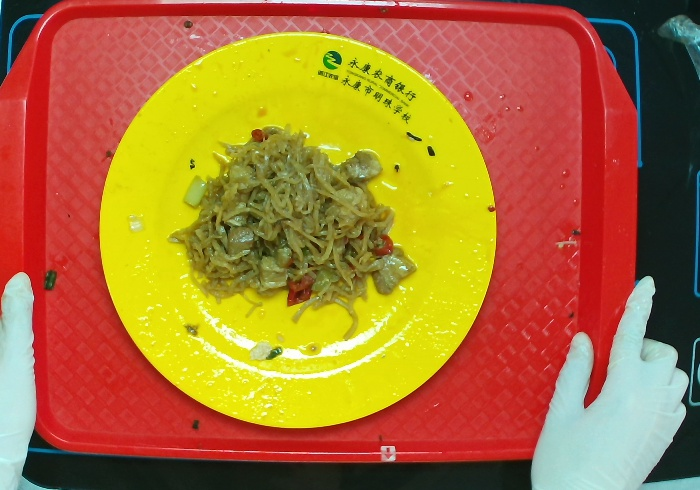YKMZ-Huang_Se_Mian_Pan: (89, 25, 504, 431)
